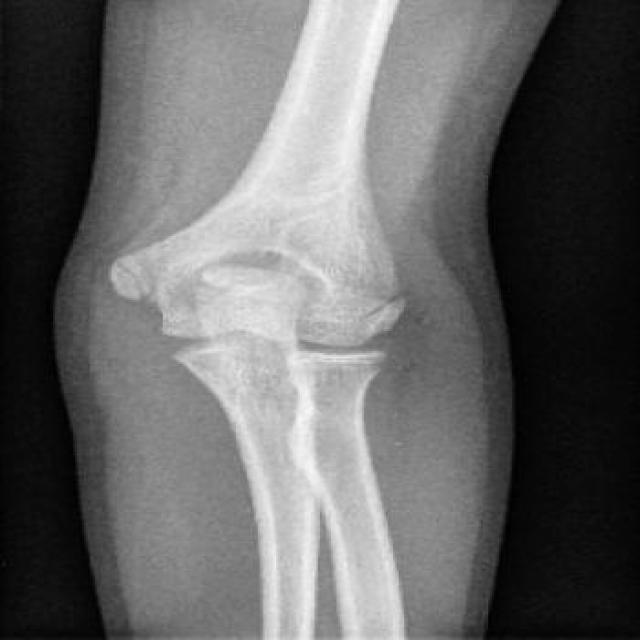Fracture: (350, 275, 431, 332)
